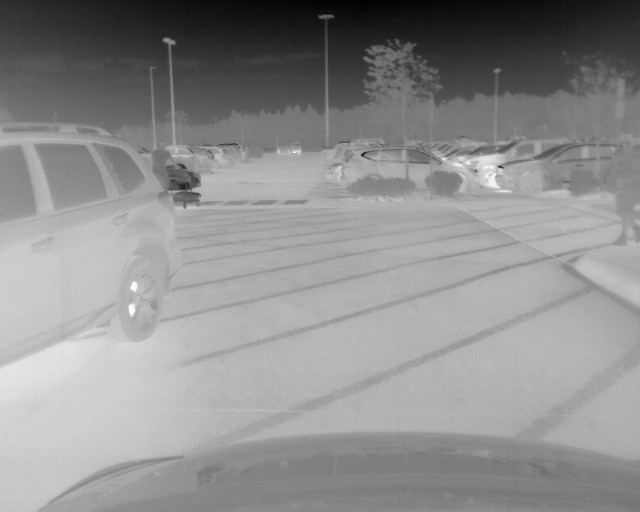car: (2, 121, 180, 369), (494, 141, 623, 193), (340, 145, 480, 191), (464, 139, 575, 190), (166, 145, 215, 173), (202, 144, 233, 168), (277, 142, 304, 155)
people: (610, 133, 640, 247), (150, 141, 180, 191)
